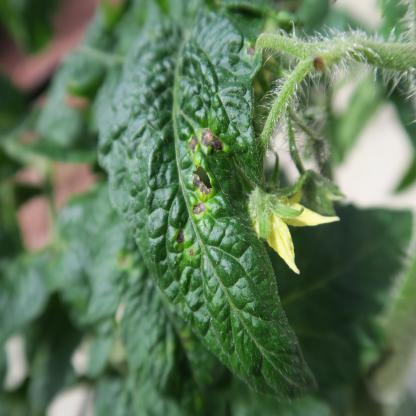tomato leaf bacterial spot: (108, 15, 310, 404)
